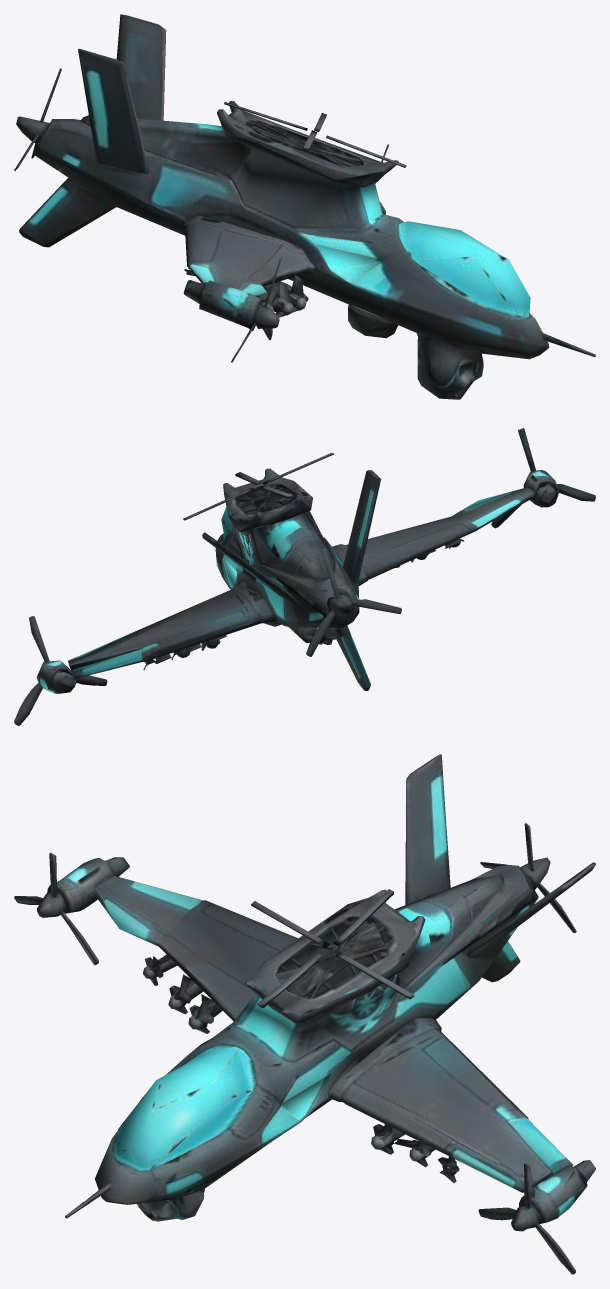
Rendered from mekong_uav.glb.
The picture shows the model from 3 angles, top to bottom: view 1: azimuth 30°, elevation 25°; view 2: azimuth 150°, elevation 25°; view 3: azimuth 270°, elevation 25°; orthographic projection. The views are drawn at different scales.
Visible parts, largest first — view 1: Body; view 2: Body; view 3: Body.
Part boxes in pixels (x1,y1,x2,y2): Body: [14, 14, 595, 399]; Body: [14, 428, 595, 725]; Body: [14, 754, 595, 1274].
Bounding box in the file's own units: 7.61 × 5.81 × 9.
1 material, 1 textured.
